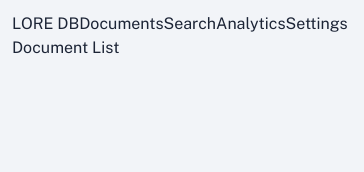
Test: Sidebar navigation › navigates to dashboard when clicking LORE DB title
Check: the text "Document List" is shown, box left=12, top=38, right=120, bottom=57
Click the link with test id "lore-db-link". click: (46, 24)
box: left=12, top=14, right=79, bottom=33
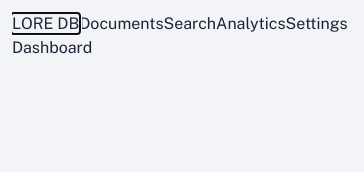
Check: the text "Dashboard" is shown, box left=12, top=38, right=92, bottom=57
